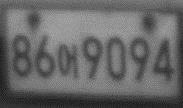0: (106, 36, 126, 81)
4: (152, 37, 175, 83)
6: (35, 35, 57, 79)
8: (11, 34, 34, 78)
9: (81, 35, 104, 80), (129, 37, 150, 82)
어: (57, 42, 79, 81)
